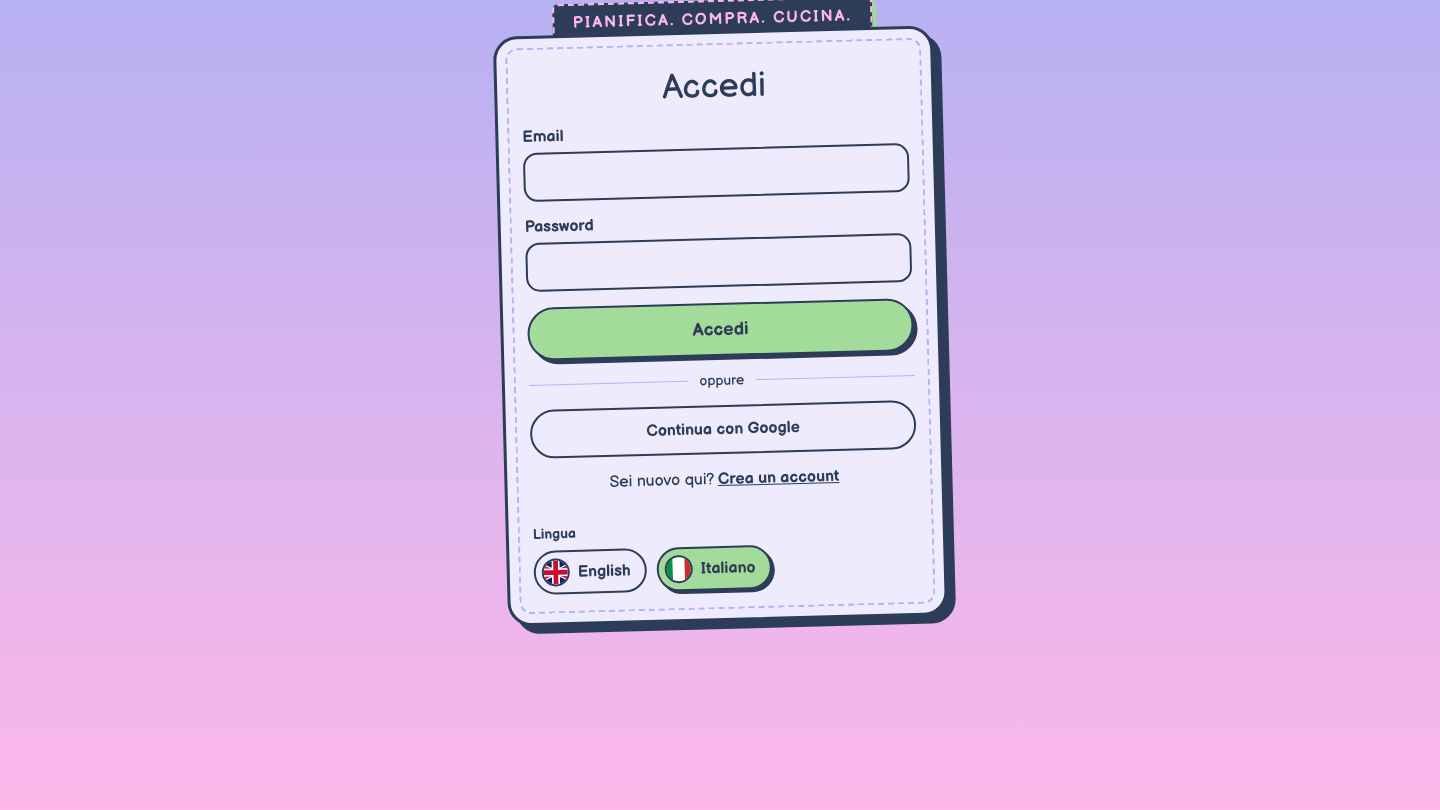
Test case: AuthForm in Italian › shows the form text and errors in Italian when Italian is the chosen language
The image size is (1440, 810).
Check: the heading "Accedi" is shown, box [662,65,767,108]
Check: the password field labelled "Password" is shown, box [525,233,912,292]
Click the button "Accedi" at (721, 330), box [527,298,914,361]
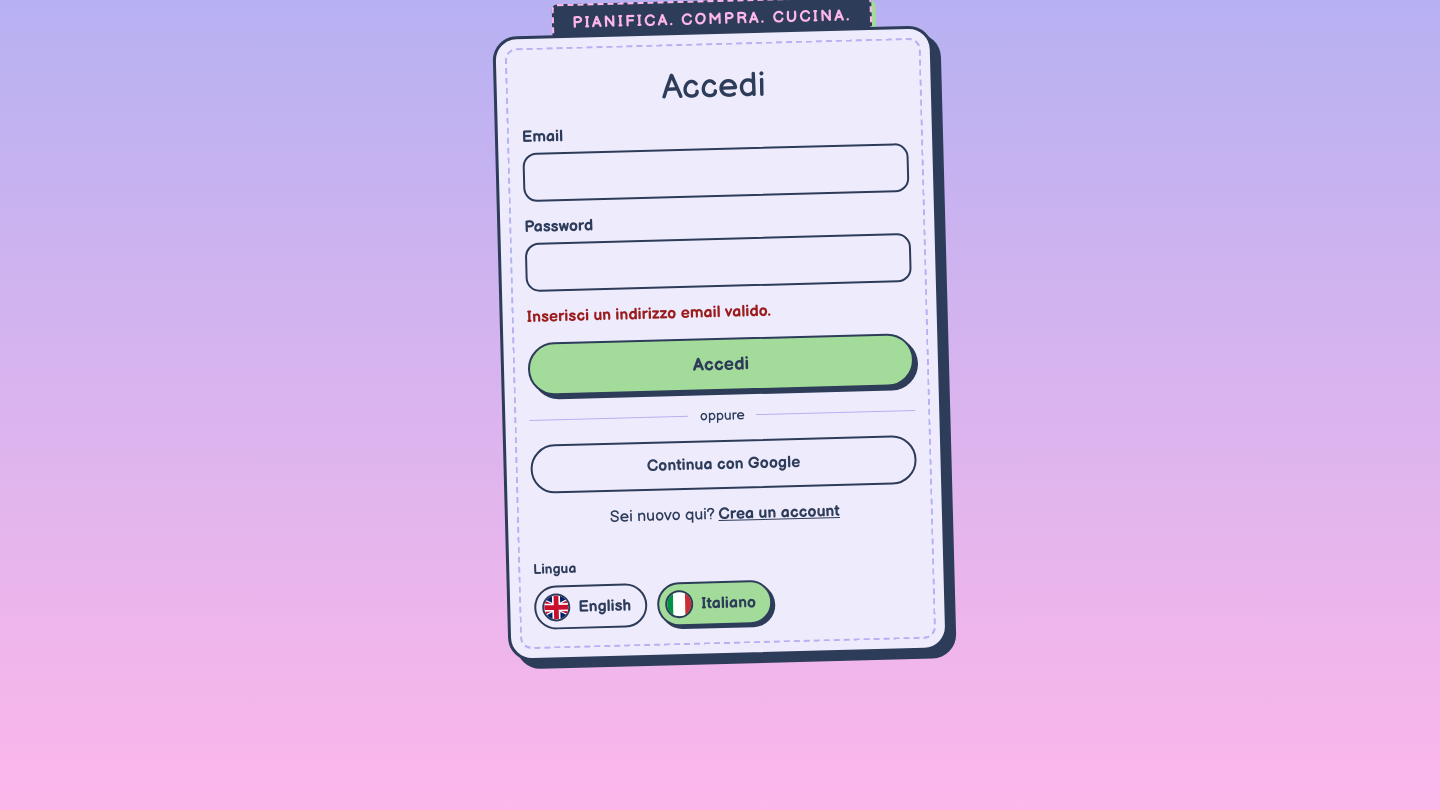
Check: the message reads "Inserisci un indirizzo email valido.", box [526,302,771,327]
